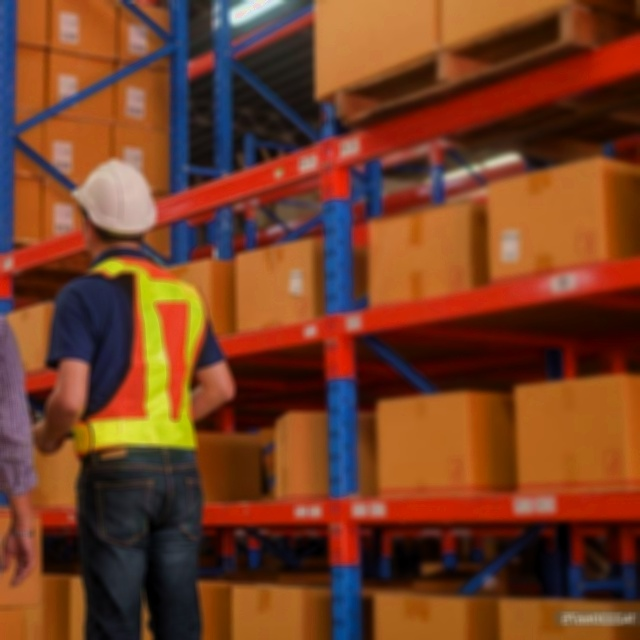Con_Casco: (72, 159, 160, 258)
Con_Chaleco: (68, 260, 206, 447)
